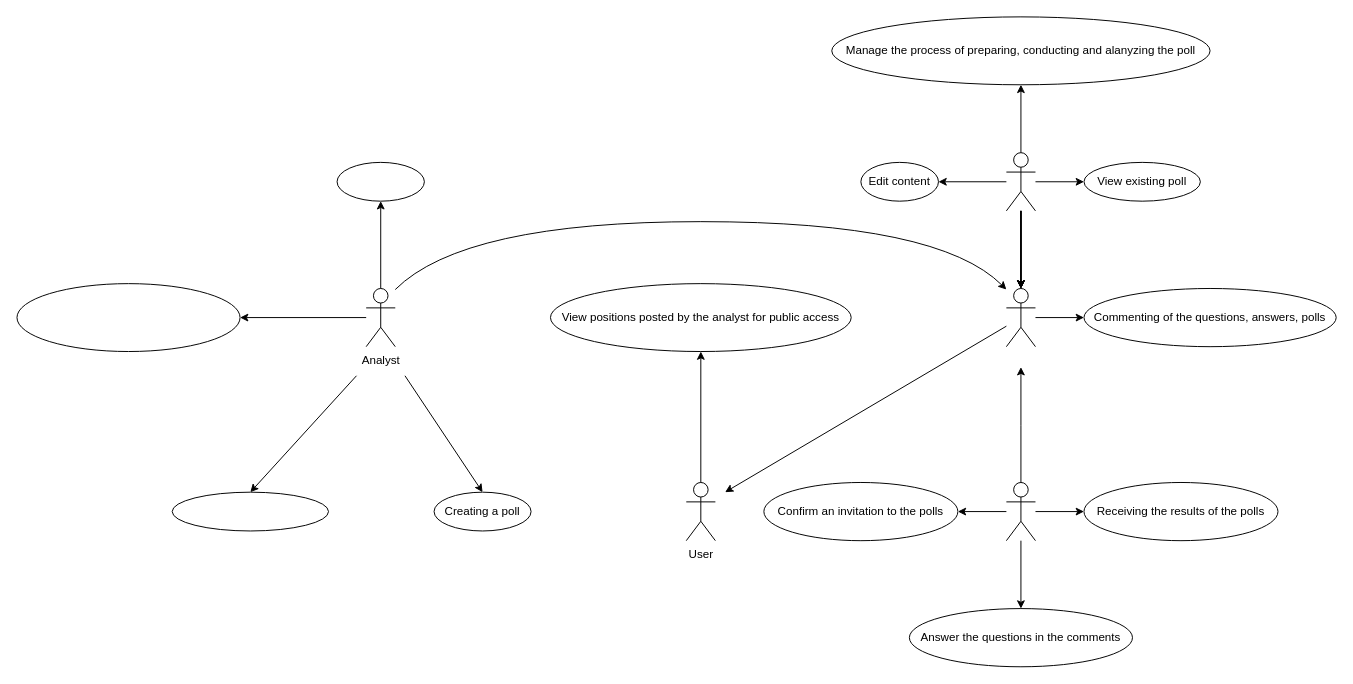
The diagram is 1353 pixels wide and 684 high, and some of its shapes have lost their labels. Here are the shapes that lost their labels. From the top down, the box of each, then its label:
(336, 161, 424, 201): Editing a poll
(1005, 152, 1035, 211): Manager
(16, 283, 240, 352): Processing and analyzing received data
(1005, 288, 1035, 347): Register_User
(171, 491, 329, 531): Add a quesetion to the poll
(1005, 482, 1035, 541): Expert
